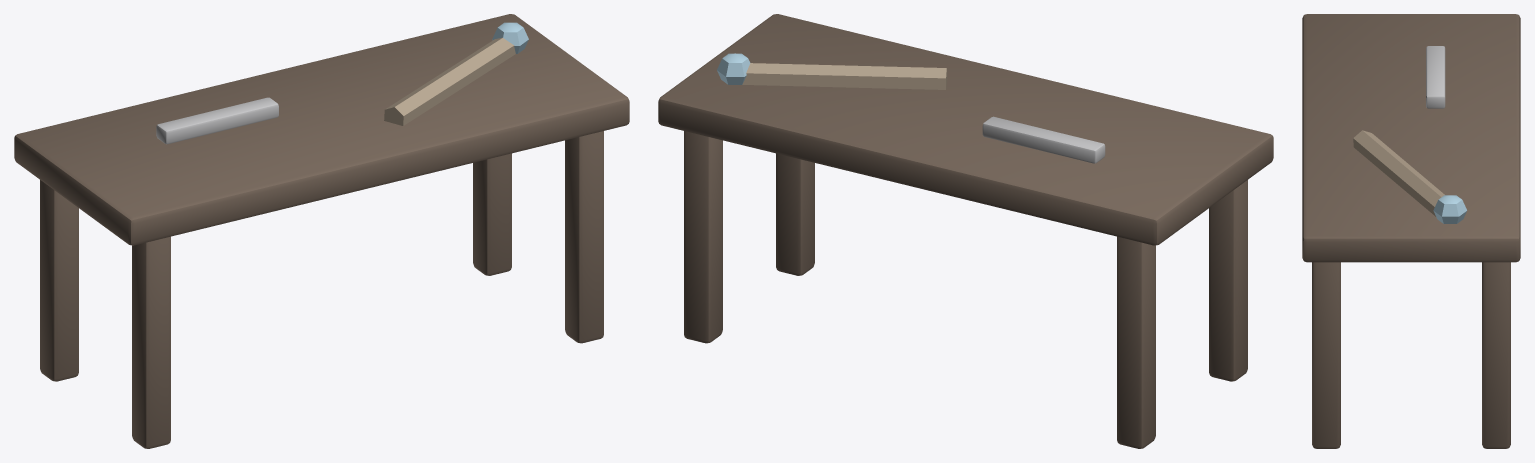
The model's file is workbench.gltf.
3 renders of one model, left to right at view 1: azimuth 30°, elevation 25°; view 2: azimuth 150°, elevation 25°; view 3: azimuth 270°, elevation 25°, orthographic. The views are drawn at different scales.
Parts seen in each view (by area): view 1: Body; view 2: Body; view 3: Body.
Boxes of the visible parts, bbox=[...] form: Body: bbox=[14, 14, 629, 448]; Body: bbox=[658, 14, 1273, 448]; Body: bbox=[1302, 14, 1520, 448].
Size of the model in its own units: 2.2 by 1.12 by 0.9.
